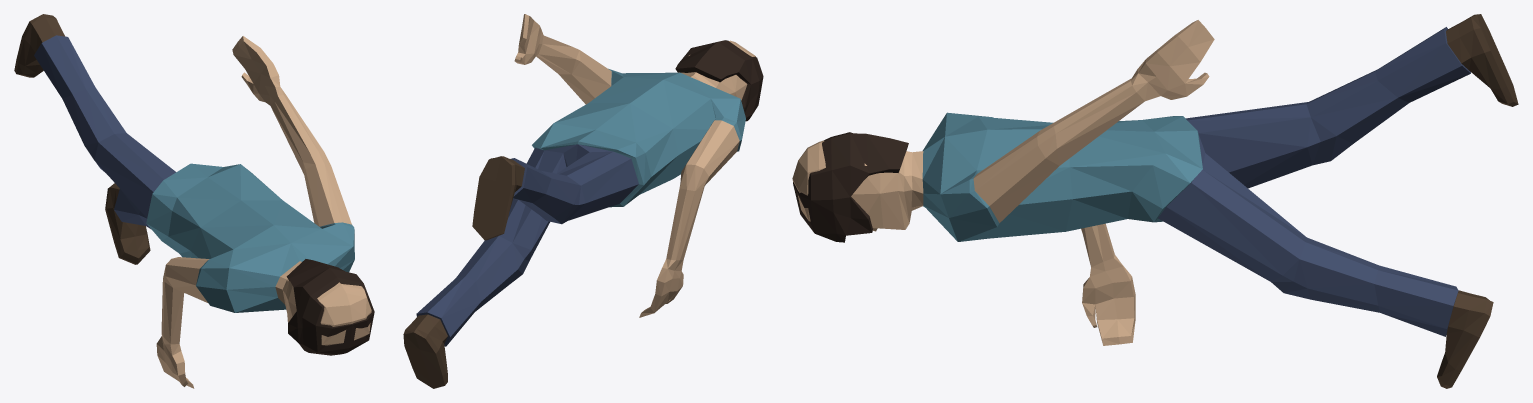
File: man-running.obj
3 renders of one model, left to right at view 1: azimuth 30°, elevation 25°; view 2: azimuth 150°, elevation 25°; view 3: azimuth 270°, elevation 25°, orthographic. The views are drawn at different scales.
Visible parts, largest first — view 1: man-running; view 2: man-running; view 3: man-running.
Part boxes in pixels (x1=…): man-running: x1=14, y1=14, x2=374, y2=388; man-running: x1=403, y1=14, x2=763, y2=388; man-running: x1=792, y1=14, x2=1518, y2=388.
Bounding box in the file's own units: 22.44 × 40.91 × 71.02.
